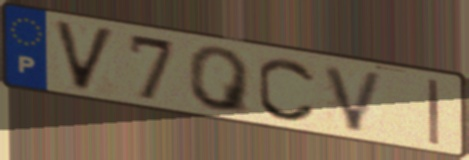7: (126, 31, 179, 103)
C: (256, 55, 320, 124)
I: (425, 76, 442, 149)
Q: (185, 45, 255, 117)
V: (50, 17, 119, 95), (321, 62, 388, 135)
